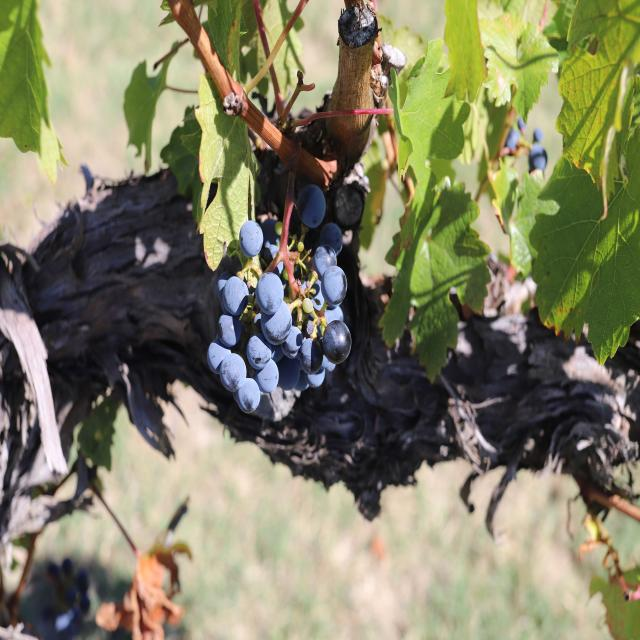grapes: (207, 172, 351, 413), (43, 558, 90, 637)
